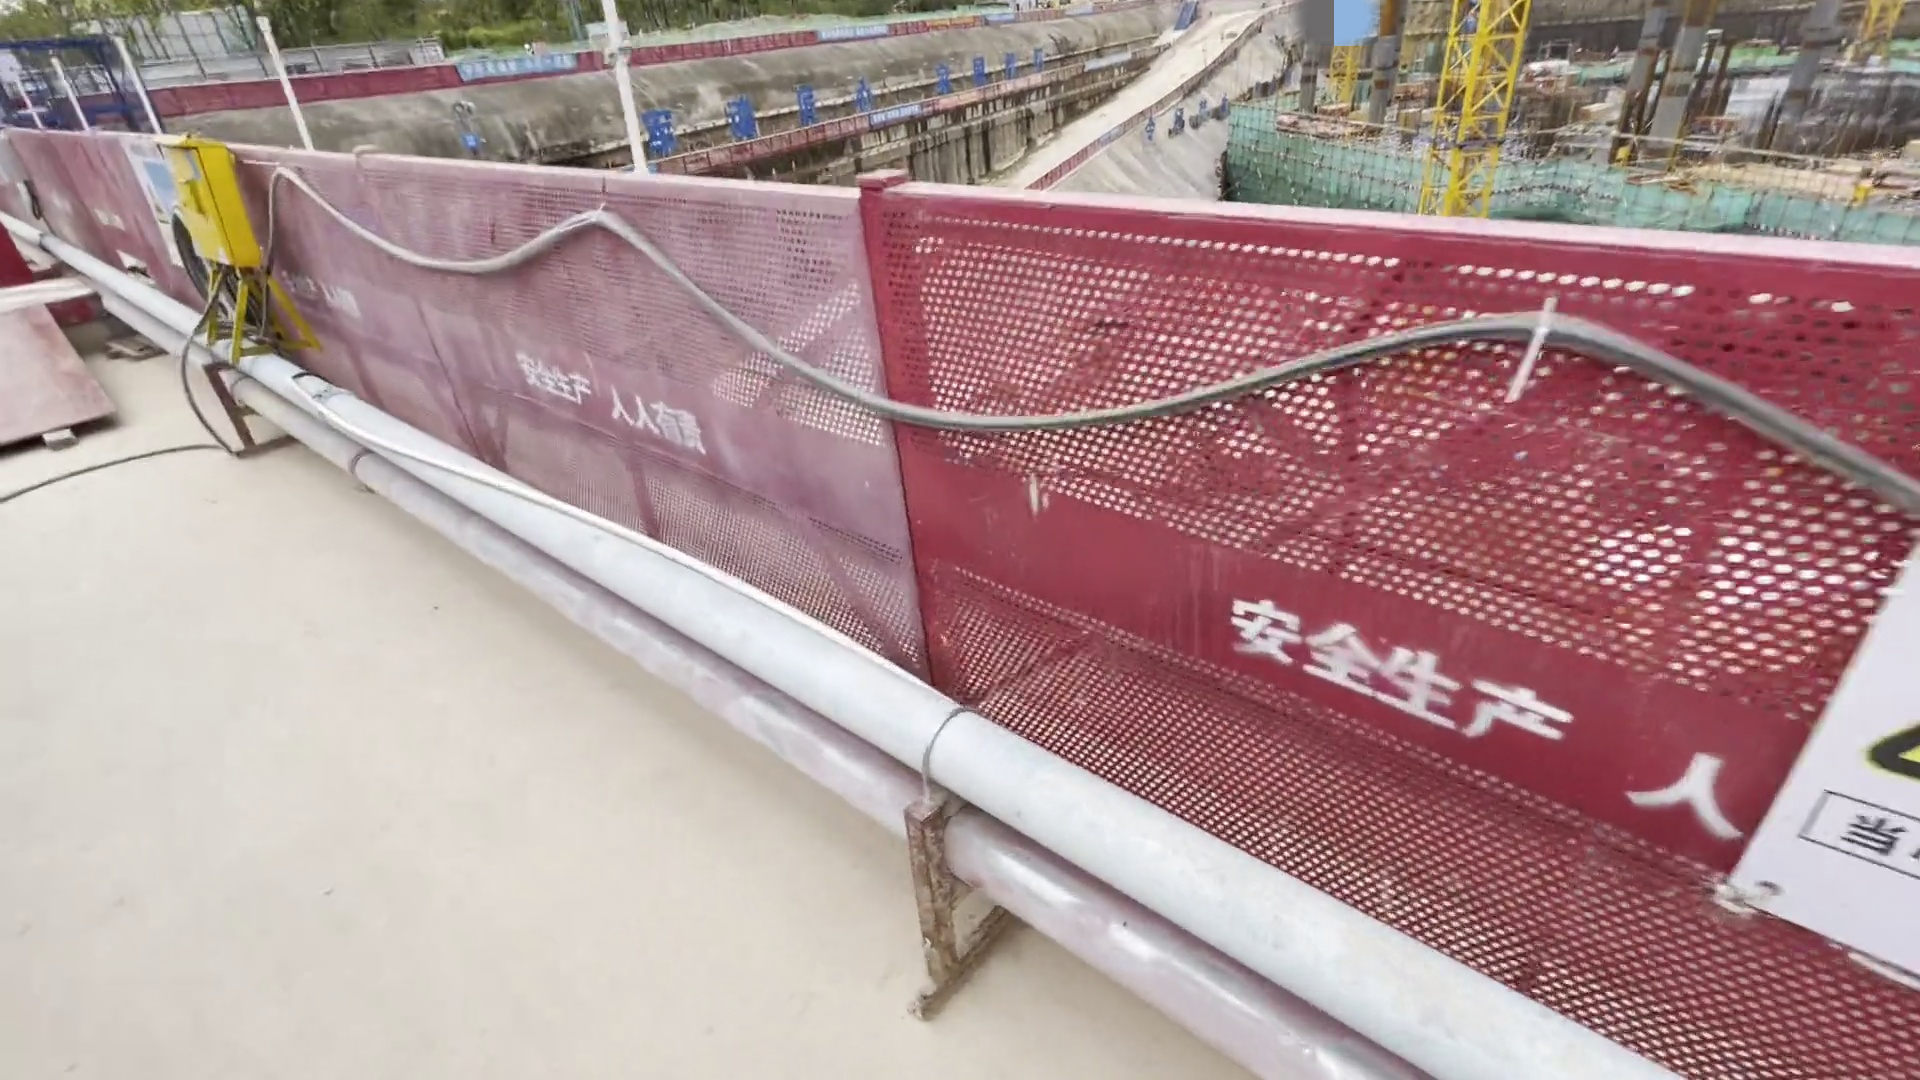board: (3, 297, 123, 469)
ebox: (135, 123, 276, 334)
fence: (975, 175, 1920, 1080), (3, 124, 998, 713), (148, 70, 446, 117), (669, 127, 869, 177)
slogan: (1721, 492, 1920, 978), (454, 40, 589, 92), (837, 92, 938, 131), (802, 20, 909, 55)
